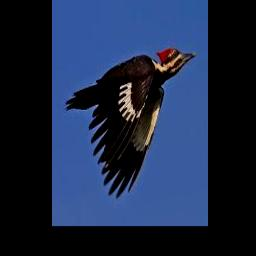Woodpecker: (65, 47, 196, 198)
